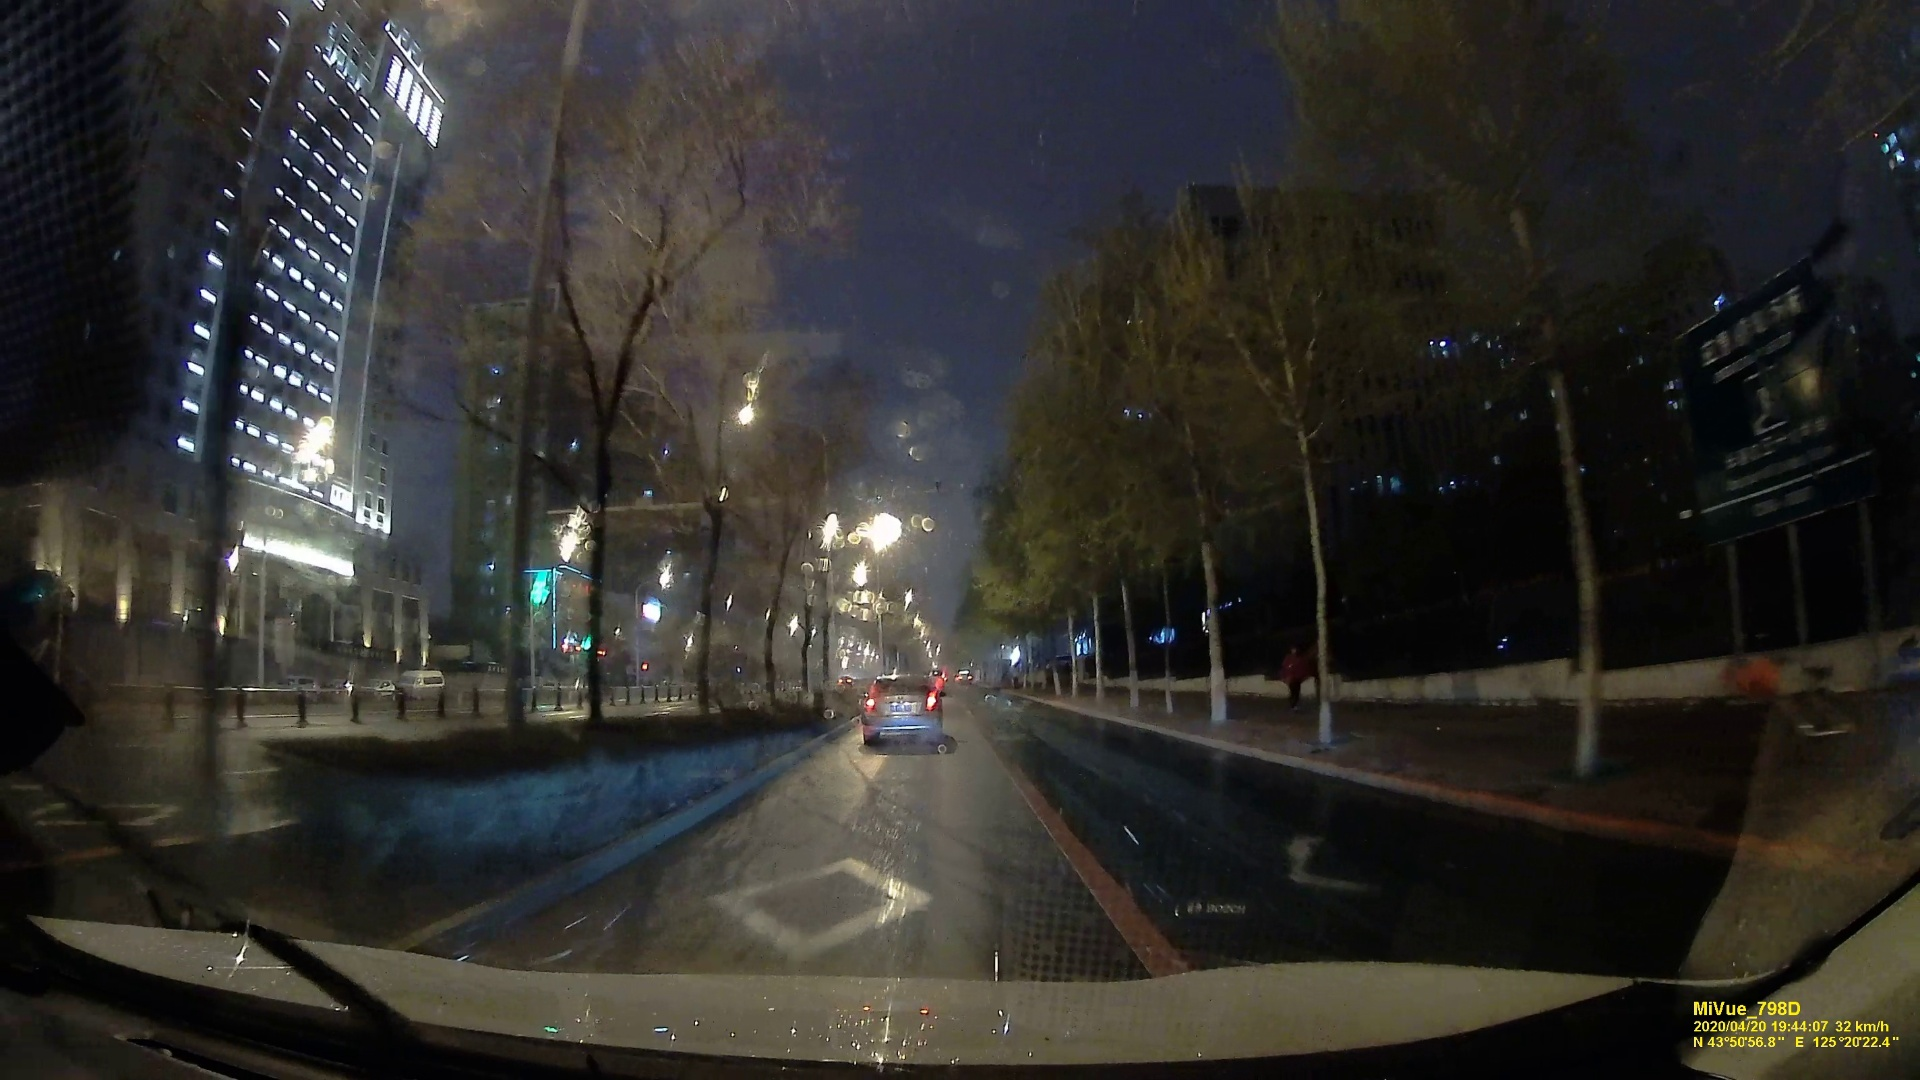vehicle: (860, 676, 942, 741)
